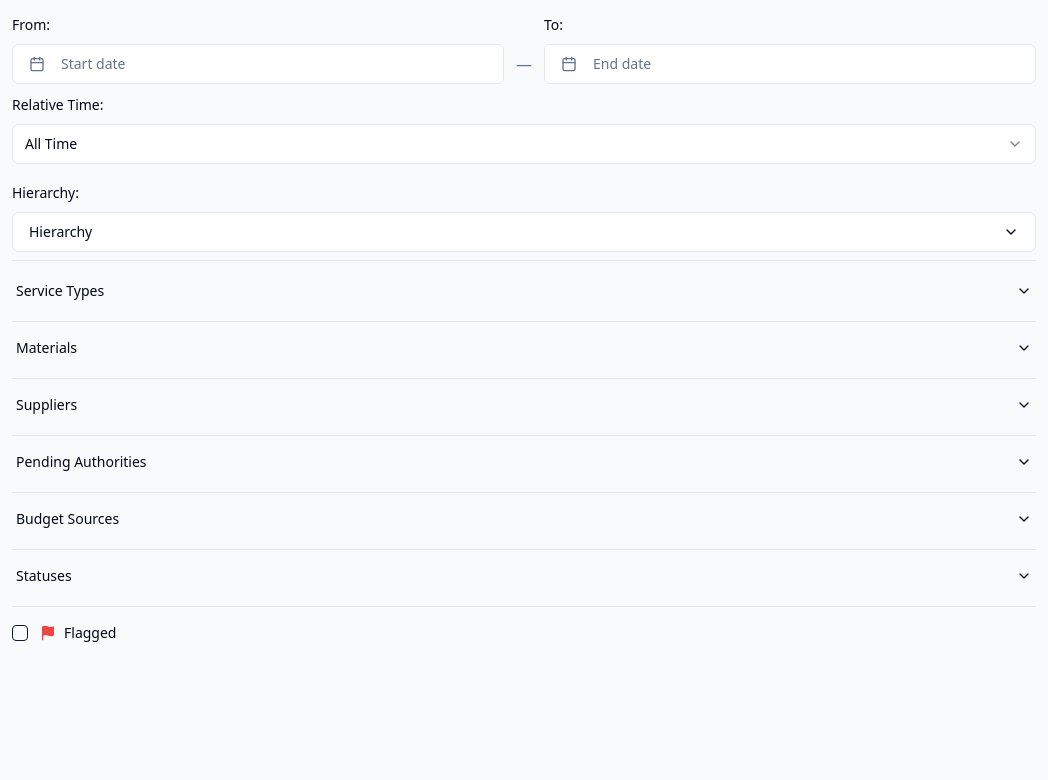
Scenario: UnifiedFilters › expands and collapses service types section
This screenshot has width=1048, height=780.
Check: the text "Service Type 1" is not shown
Note: Expand section
Step 1. Click the button "Service Types" → (60, 290), box [12,273,1036,309]
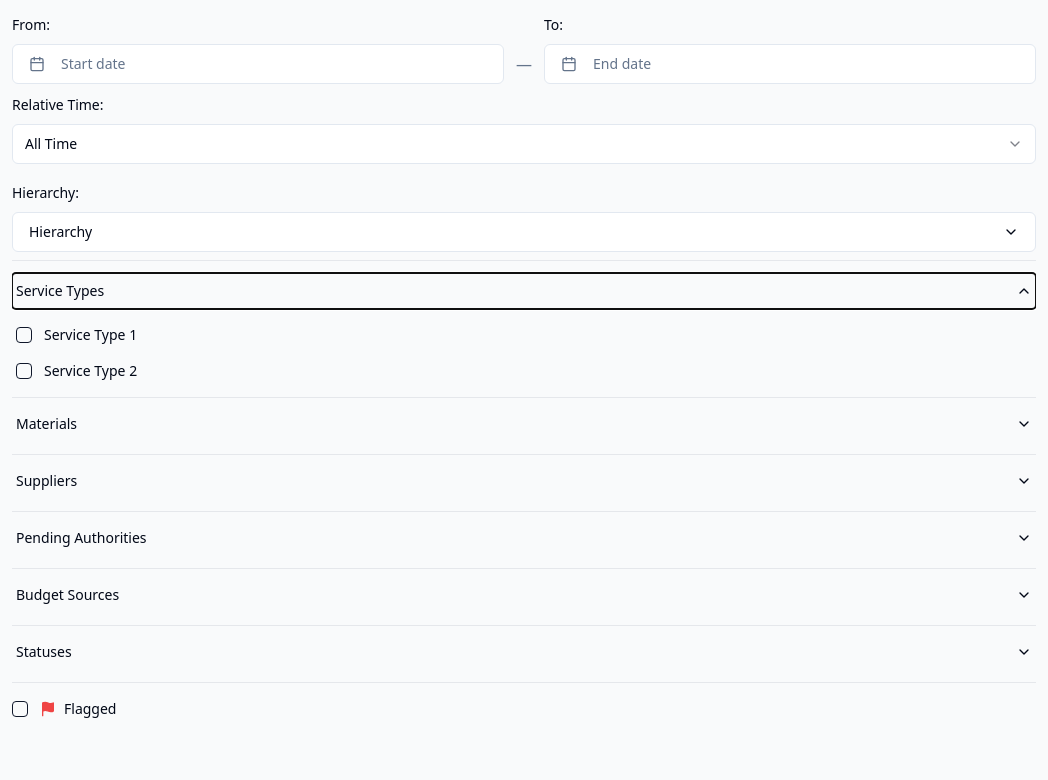
Check: the text "Service Type 1" is shown, box [44,325,137,345]
Check: the text "Service Type 2" is shown, box [44,361,137,381]
